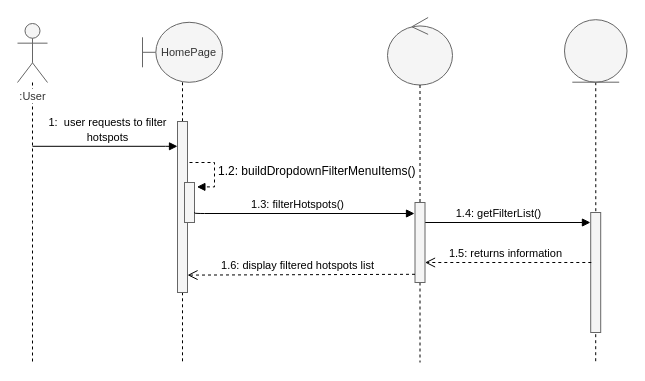
Image size: 645x381. Some labels were removed from this diagram. Here are the shapes that lost their labels. From the top down, the centre of each, then its label:
At [419,50]: "Filter".
At [595,50]: "Local Database".
